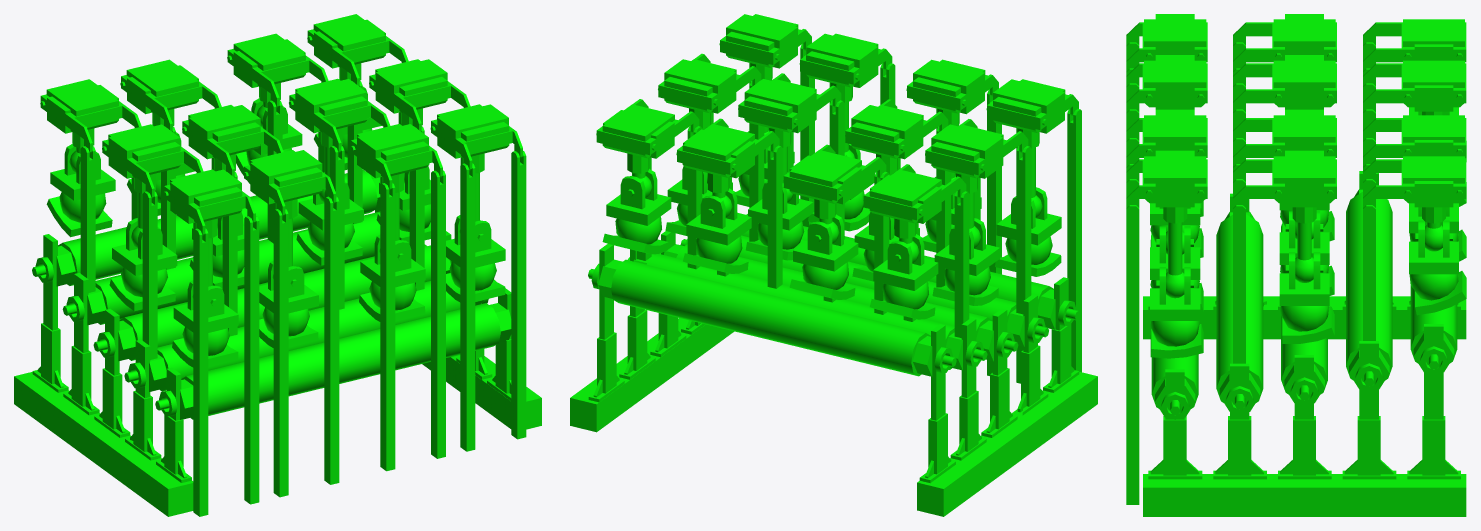
File: Casting_Machine02.fbx
3 renders of one model, left to right at view 1: azimuth 30°, elevation 25°; view 2: azimuth 150°, elevation 25°; view 3: azimuth 270°, elevation 25°, orthographic. The views are drawn at different scales.
Parts seen in each view (by area): view 1: Casting_Machine02_LOD0; view 2: Casting_Machine02_LOD0; view 3: Casting_Machine02_LOD0.
Boxes of the visible parts, x1,y1,x2,y2 form: Casting_Machine02_LOD0: (14,14,541,516); Casting_Machine02_LOD0: (570,14,1097,516); Casting_Machine02_LOD0: (1126,14,1466,516).
Size of what is drawn, in the model's own units: 350 by 277 by 263.
